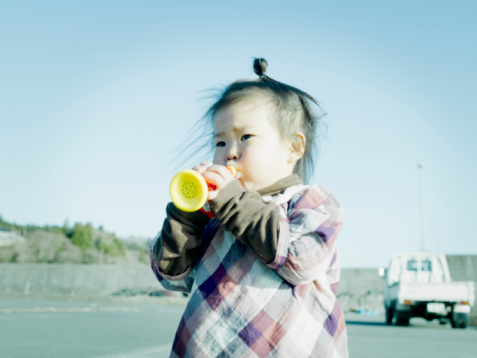em pe: (143, 78, 349, 358)
